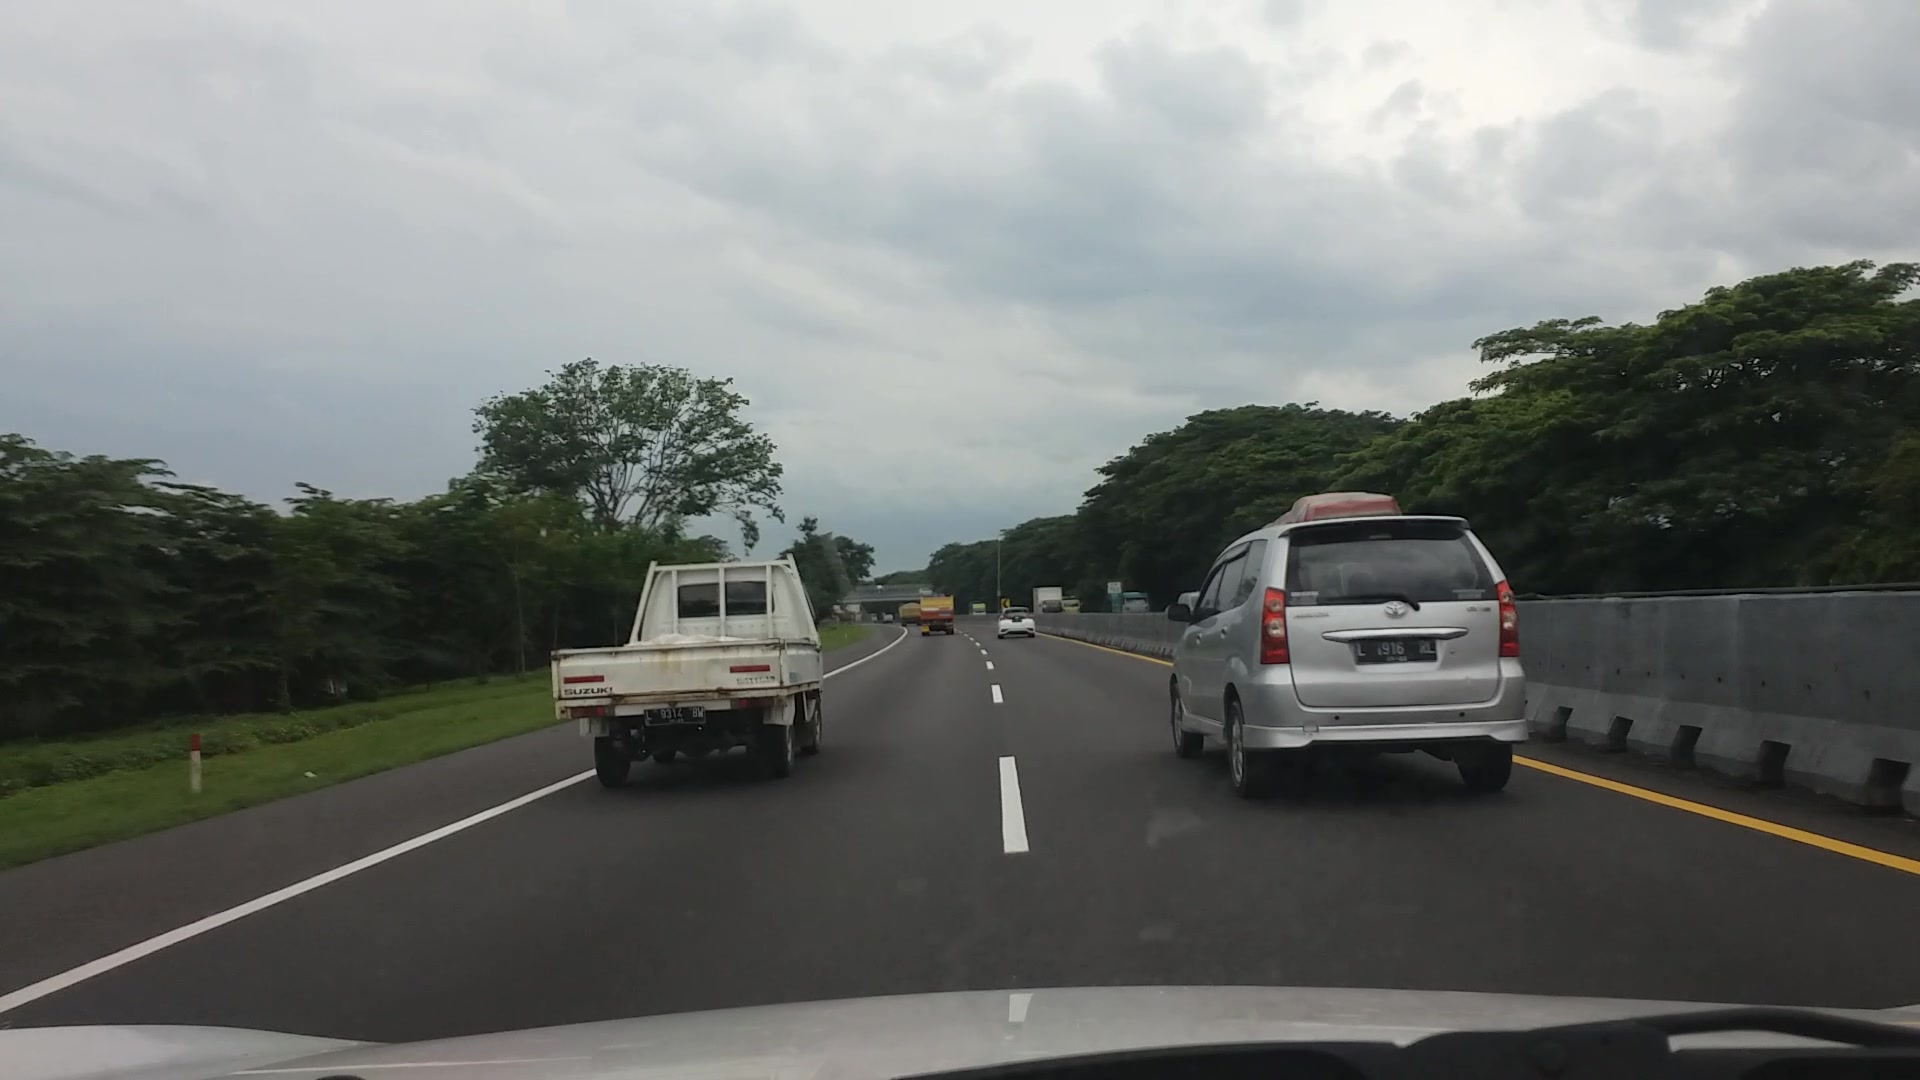plate_positive: (1356, 638, 1437, 663), (644, 707, 705, 725)
